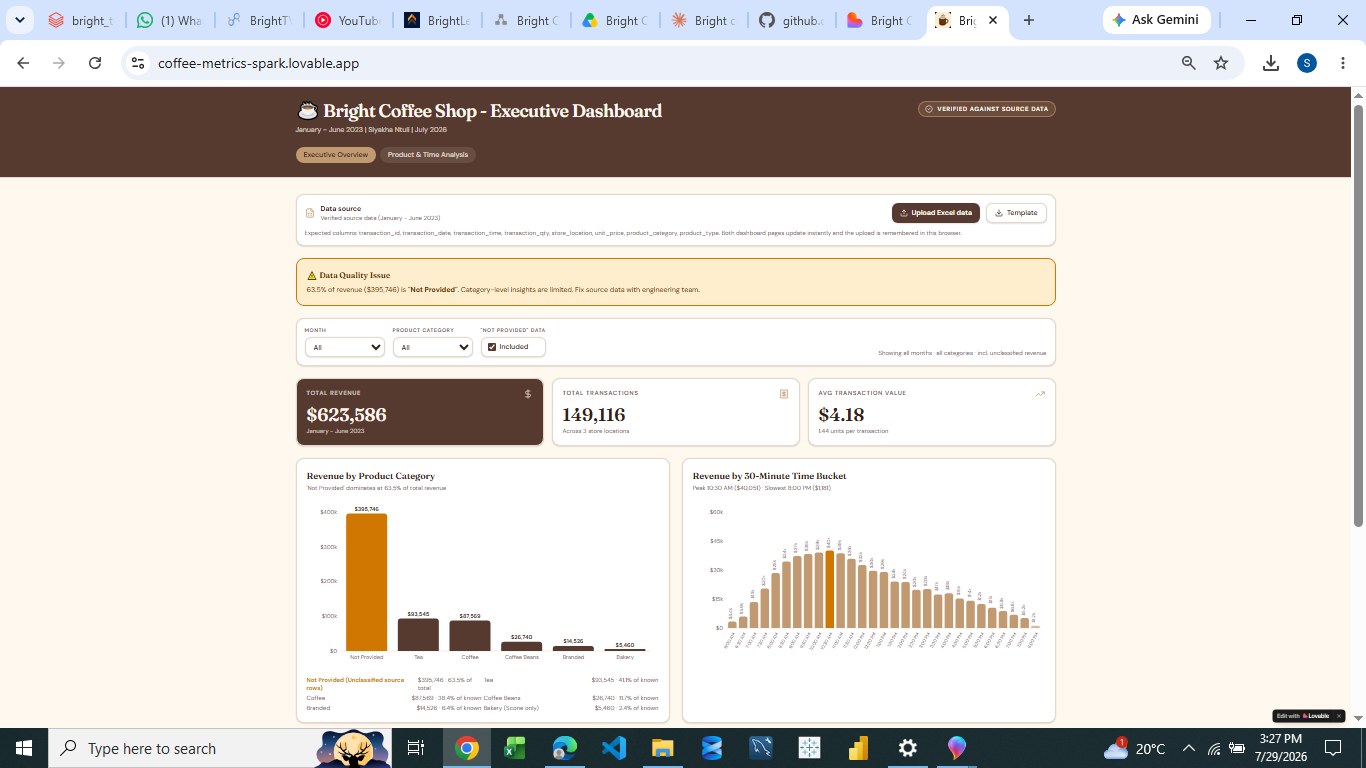

Layout of this report page (visuals, bound fields, positions):
{"tool":"powerbi","page":{"name":"Executive_Overview","canvas":[1900,1200],"ordinal":0},"visuals":[{"type":"textbox","box":[10.1,0,1269.9,107.5],"z":0},{"type":"cardVisual","fields":{"Data":["coffee_sales_cleaned.Total_Revenue"]},"box":[11.3,194.5,321.2,149.3],"z":1},{"type":"cardVisual","fields":{"Data":["coffee_sales_cleaned.Total_Transactions"]},"box":[332.5,201.3,321.2,149.3],"z":2},{"type":"cardVisual","fields":{"Data":["coffee_sales_cleaned.Avg_Transaction_Value","coffee_sales_cleaned.Avg_Transaction_Value"]},"box":[653.7,194.5,321.2,149.3],"z":3},{"type":"slicer","fields":{"Values":["coffee_sales_cleaned.Month_Name"]},"box":[0,343.8,321.2,149.3],"z":4},{"type":"slicer","fields":{"Values":["coffee_sales_cleaned.product_category"]},"box":[332.5,343.8,321.2,149.3],"z":5},{"type":"clusteredColumnChart","title":"Revenue by product_category","fields":{"Category":["coffee_sales_cleaned.product_category"],"Y":["coffee_sales_cleaned.Total_Revenue"]},"box":[0,600,794,410],"z":6},{"type":"lineChart","title":"Revenue by Month_Name","fields":{"Category":["coffee_sales_cleaned.Month_Name"],"Y":["coffee_sales_cleaned.Total_Revenue"]},"box":[794,600,842,410],"z":7}]}

Visuals, with their boxes on the page's 1900x1200 design canvas (x1, y1, x2, y2). These are canvas units, not pixel positions in the 1366x768 screenshot, which may show the page scaled, cropped or inside an application window:
textbox: Rect(10, 0, 1280, 108)
cardVisual - coffee_sales_cleaned.Total_Revenue: Rect(11, 194, 332, 344)
cardVisual - coffee_sales_cleaned.Total_Transactions: Rect(332, 201, 654, 351)
cardVisual - coffee_sales_cleaned.Avg_Transaction_Value x coffee_sales_cleaned.Avg_Transaction_Value: Rect(654, 194, 975, 344)
slicer - coffee_sales_cleaned.Month_Name: Rect(0, 344, 321, 493)
slicer - coffee_sales_cleaned.product_category: Rect(332, 344, 654, 493)
"Revenue by product_category" clusteredColumnChart: Rect(0, 600, 794, 1010)
"Revenue by Month_Name" lineChart: Rect(794, 600, 1636, 1010)
